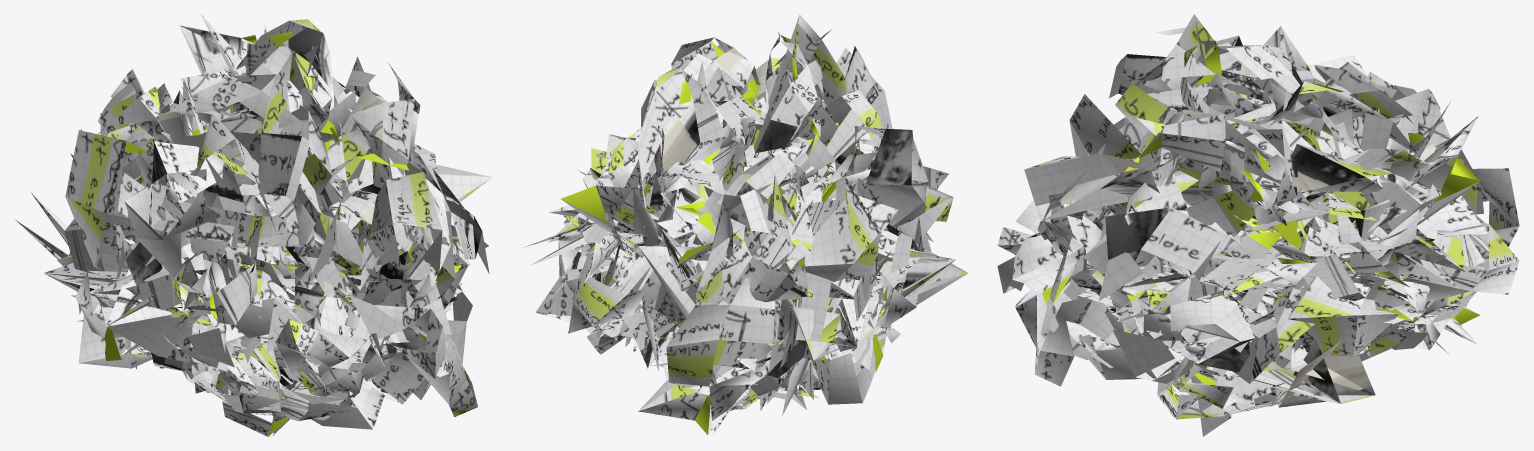
File: Crumbled PaperNEW.fbx
3 renders of one model, left to right at view 1: azimuth 30°, elevation 25°; view 2: azimuth 150°, elevation 25°; view 3: azimuth 270°, elevation 25°, orthographic. The views are drawn at different scales.
Parts seen in each view (by area): view 1: Crumbled Paper 1, Crumbled Paper 2; view 2: Crumbled Paper 1, Crumbled Paper 2; view 3: Crumbled Paper 1, Crumbled Paper 2.
Boxes of the visible parts, x1,y1,x2,y2 form: Crumbled Paper 1: [15, 14, 489, 416]; Crumbled Paper 2: [44, 144, 492, 436]; Crumbled Paper 1: [535, 14, 968, 420]; Crumbled Paper 2: [523, 134, 948, 436]; Crumbled Paper 1: [997, 14, 1519, 436]; Crumbled Paper 2: [997, 195, 1519, 395].
Bounding box in the file's own units: 121 × 113 × 144.
Materials: 1 (1 with a texture image).
